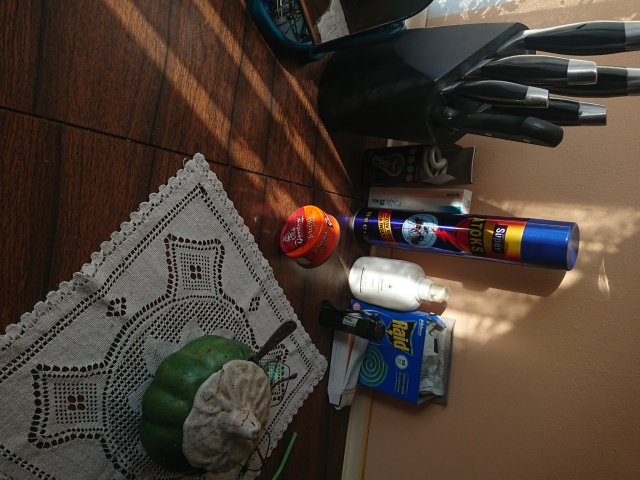Gavrilovic Pork Liver Pate 100g: (277, 202, 343, 272)
